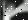person: (2, 1, 28, 20)
